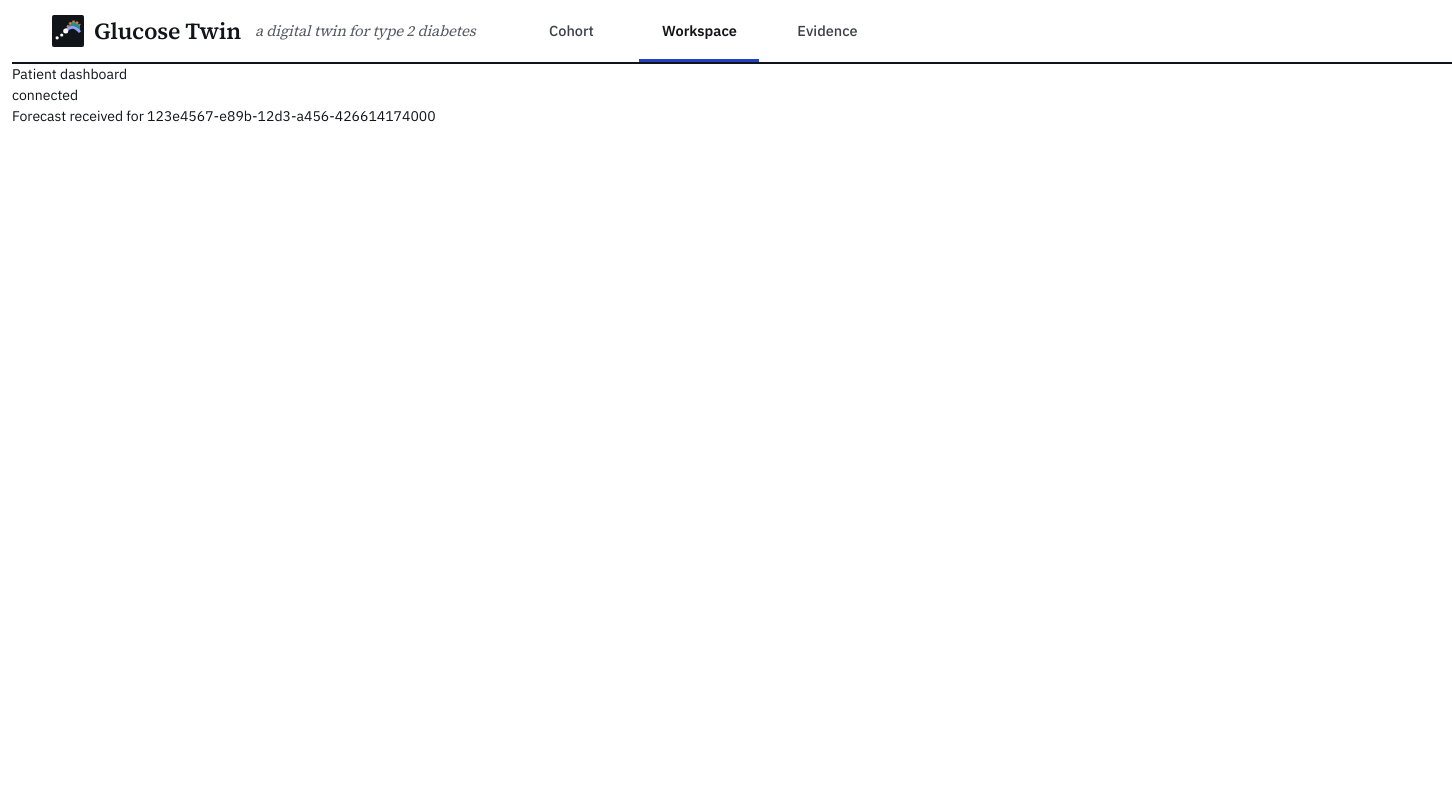
Test: Connected patient to Evidence and Cohort cancellation lifecycle › renders Evidence and consumes cancel rejection after aborting an active native stream, without reconnecting
The width and height of the screenshot is (1452, 810).
Expected: the text with test id "status" reads "connected", [12, 86, 78, 104]
Click the link "Evidence". click: point(828, 31)
box: [768, 0, 888, 62]
(page scrolled)
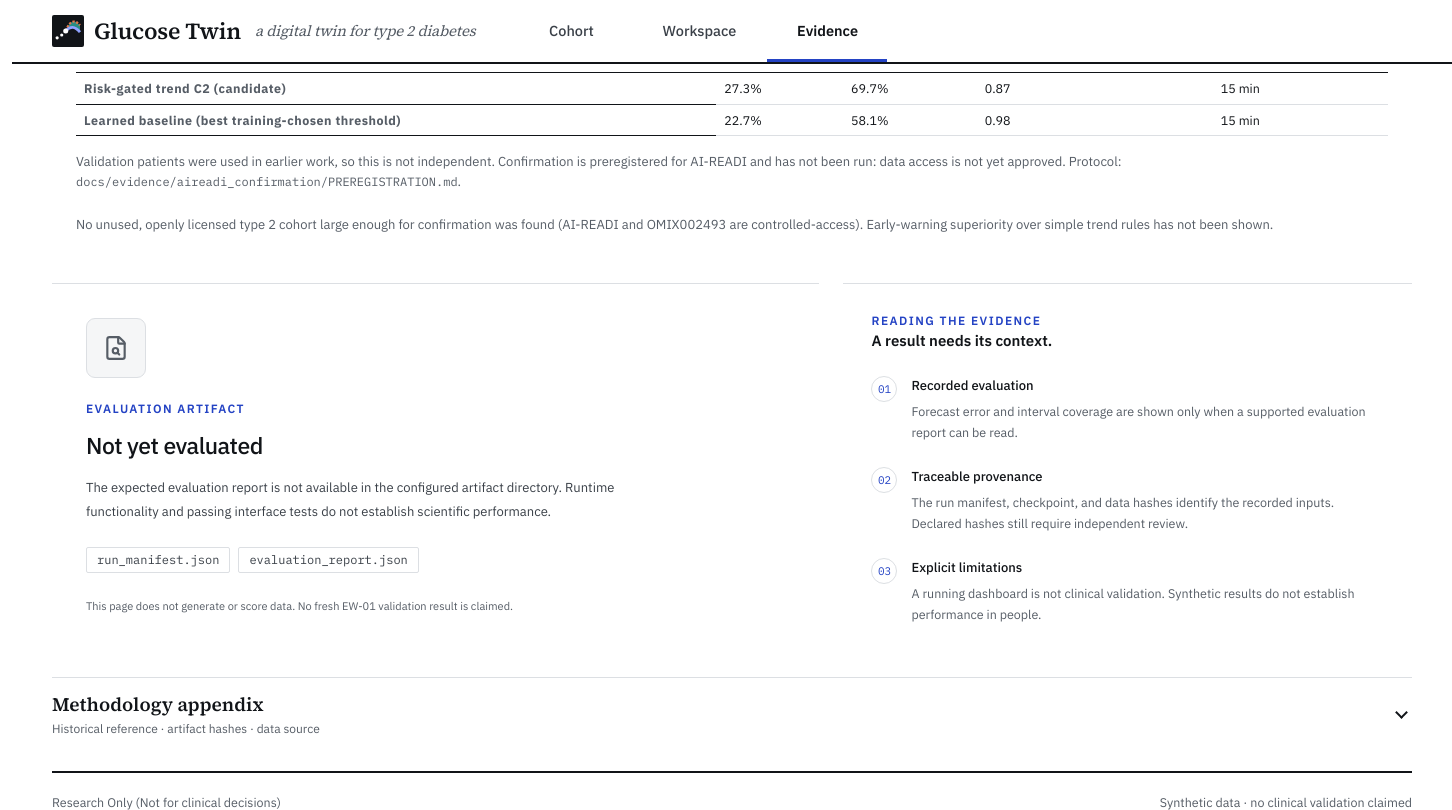
Expected: the heading "Not yet evaluated" is shown, [86, 430, 263, 460]
